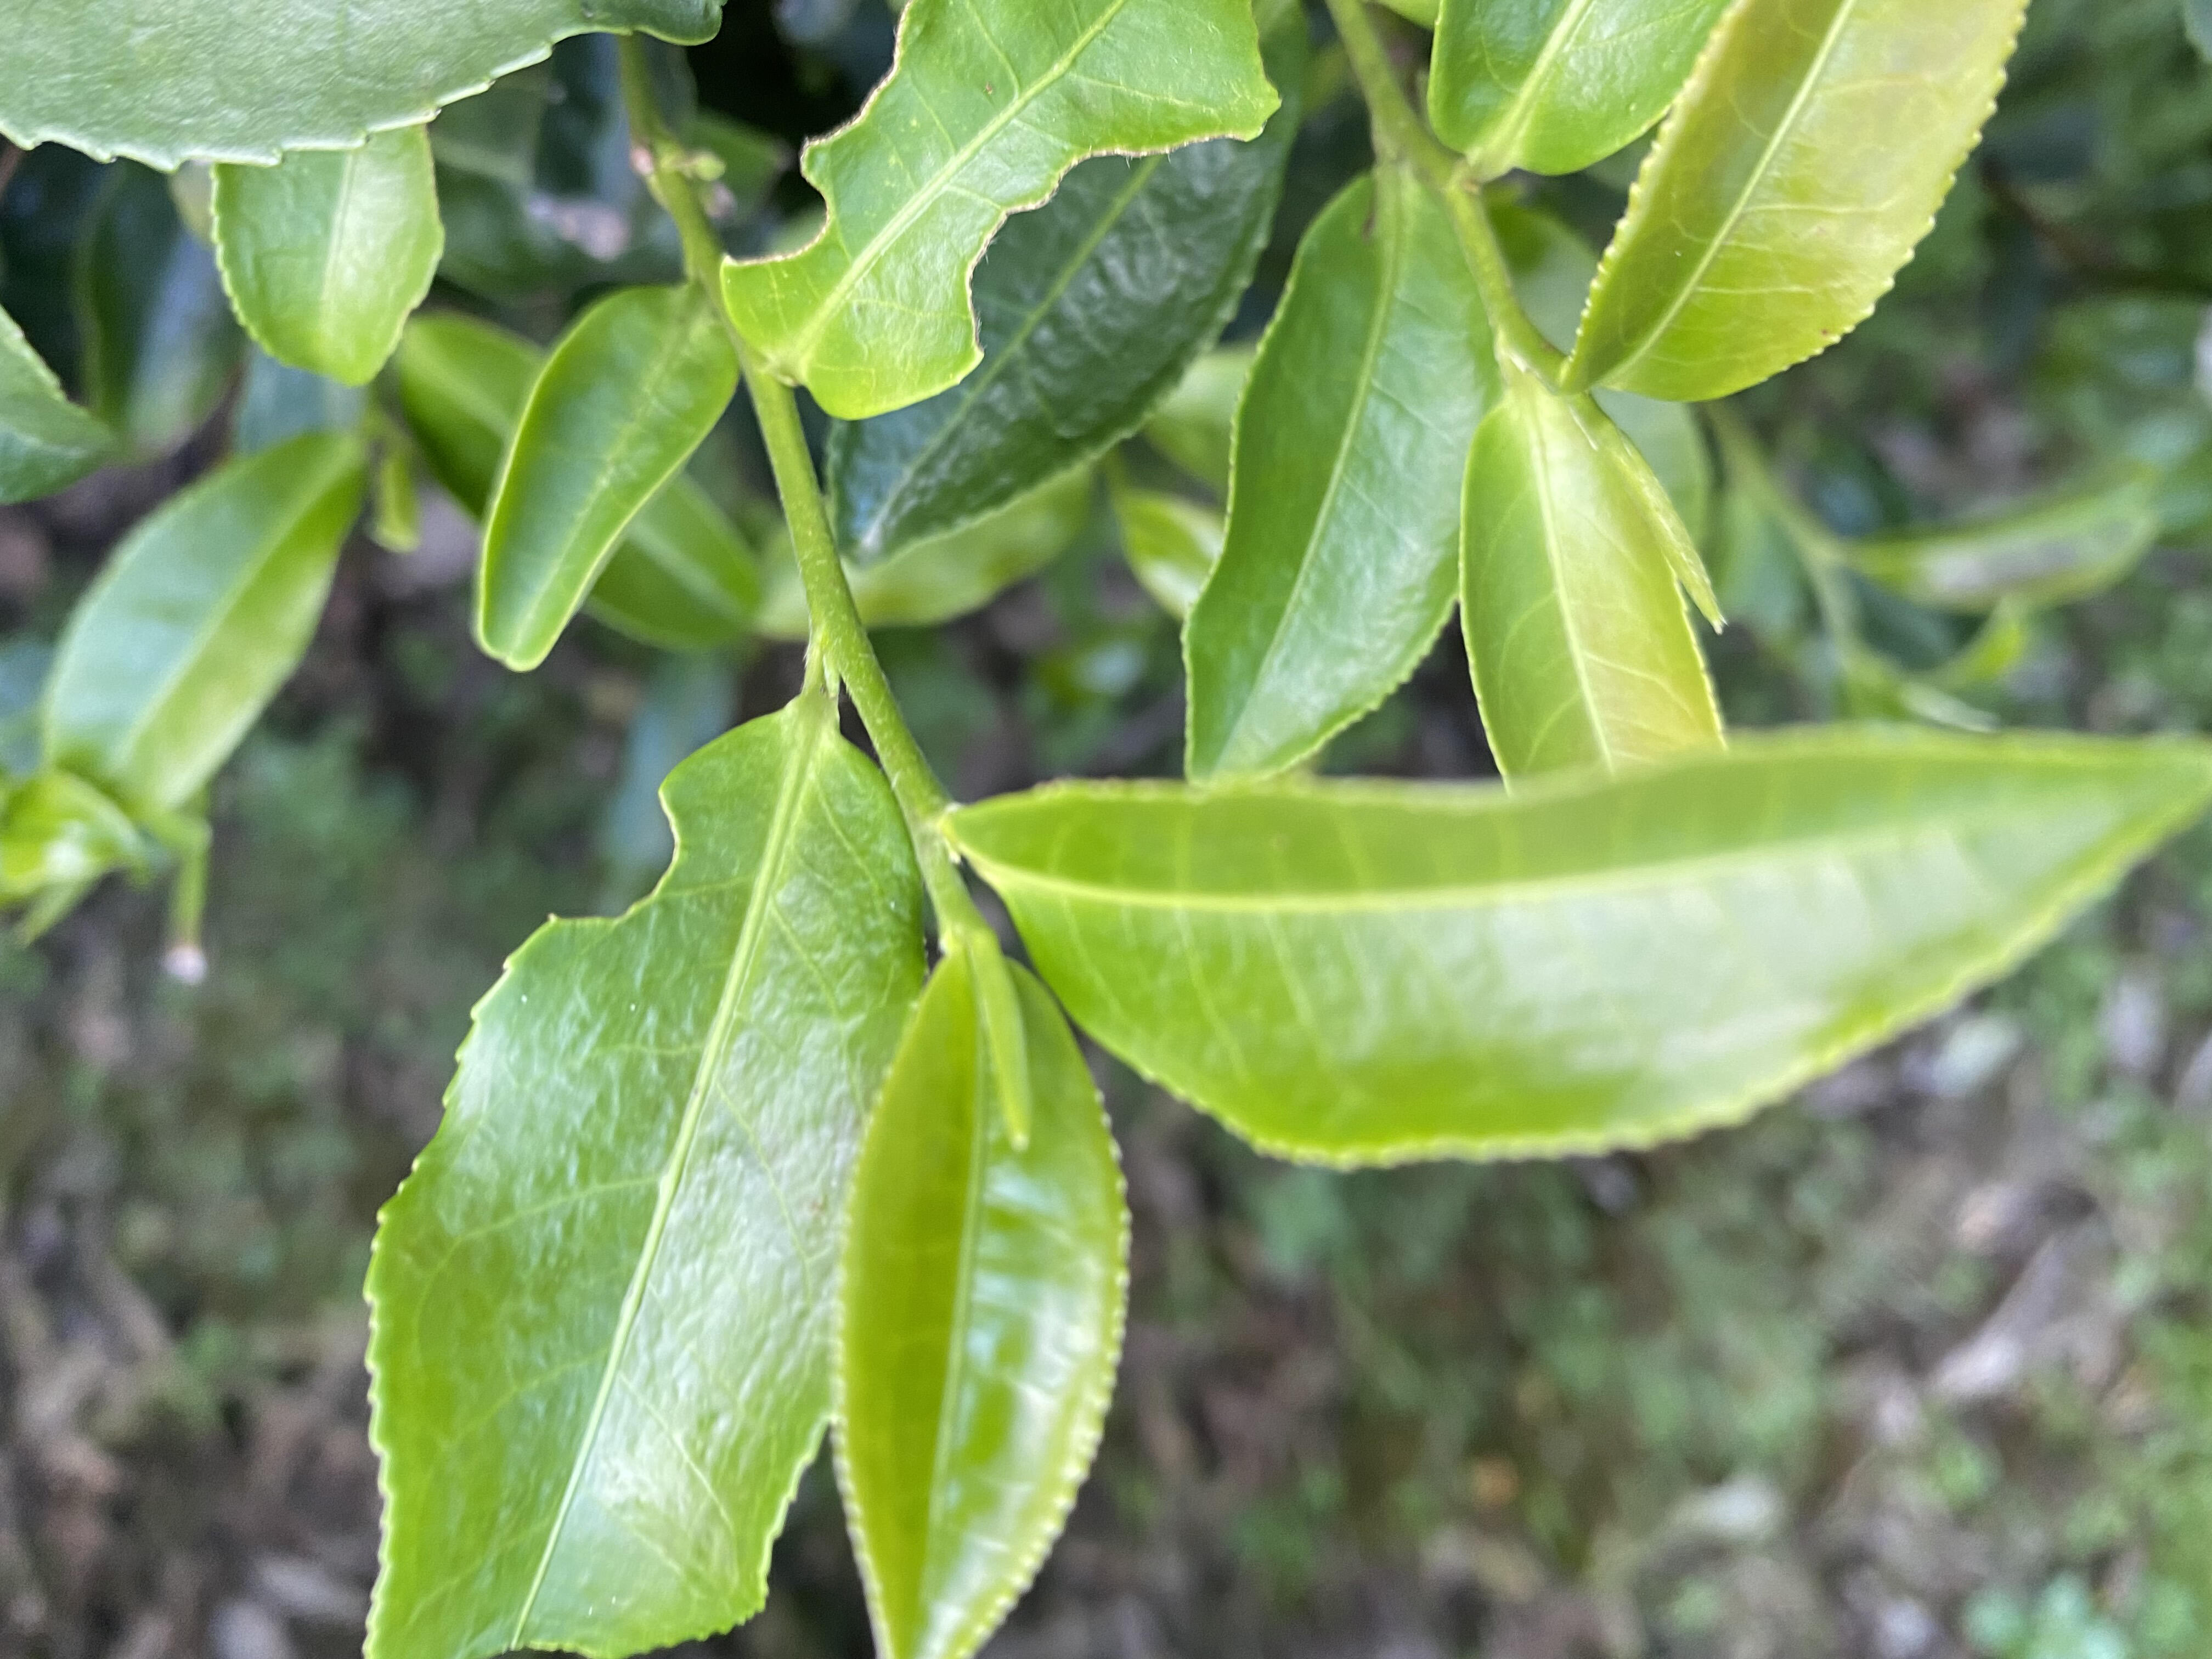chihuo_high: (716, 2, 1284, 425)
chihuo_low: (357, 711, 930, 1659)
healthy: (951, 714, 2209, 1178), (827, 957, 1130, 1656), (465, 279, 738, 680)
tanju_low: (1177, 159, 1500, 779)
